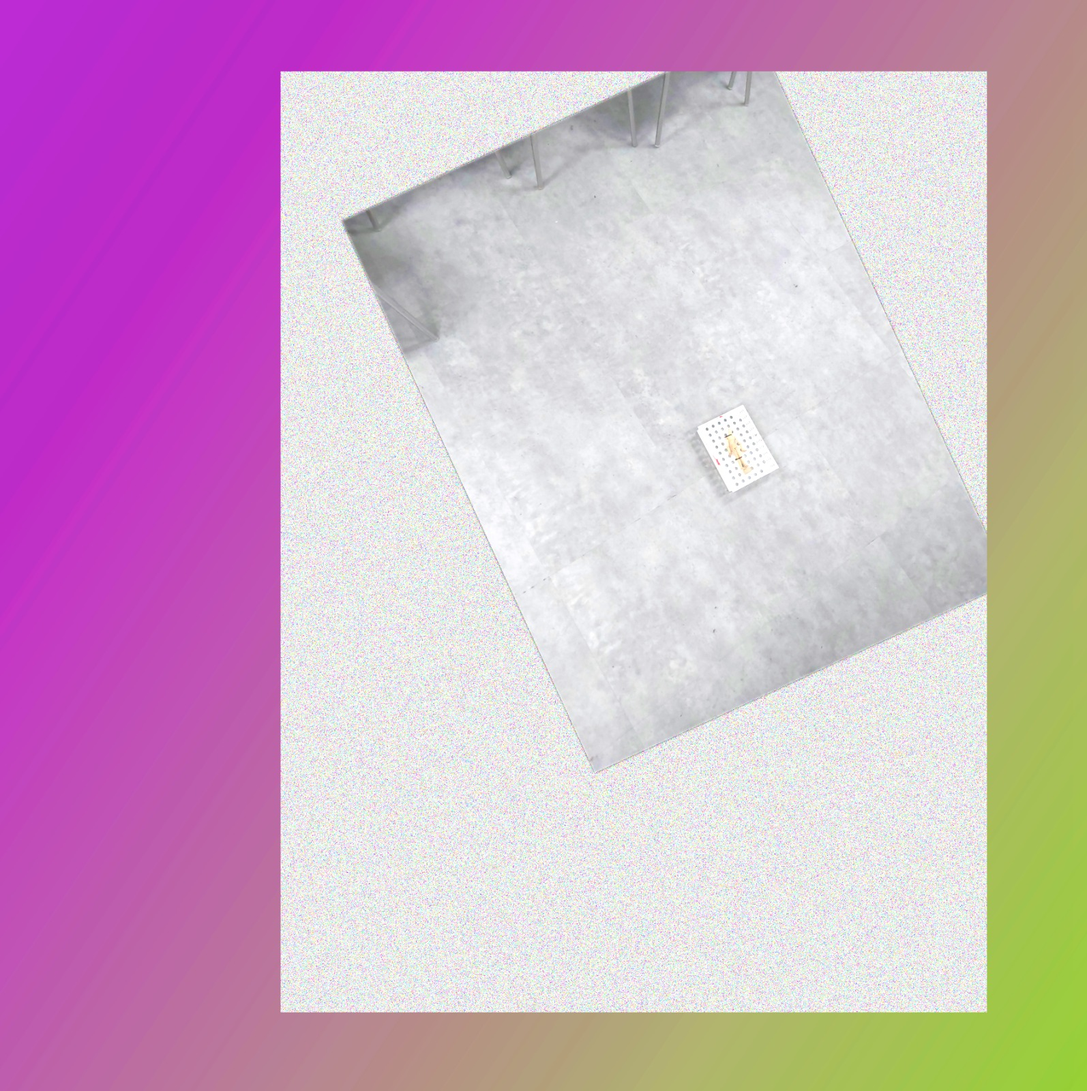basket: (694, 402, 781, 496)
mannequin: (722, 428, 753, 475)
